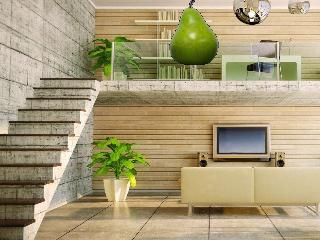pear: (166, 0, 221, 67)
